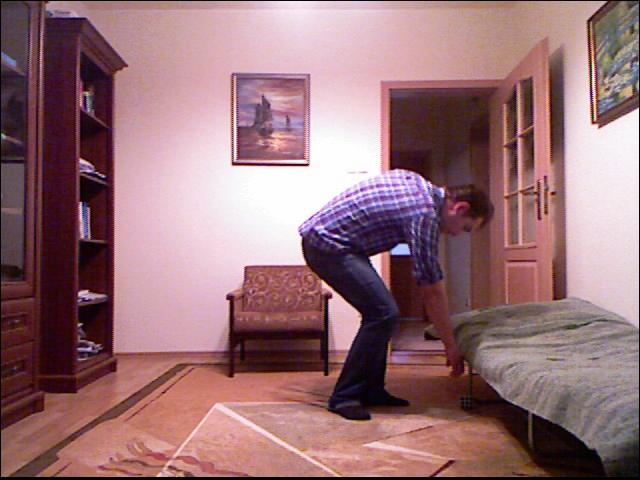bending: (293, 138, 500, 427)
